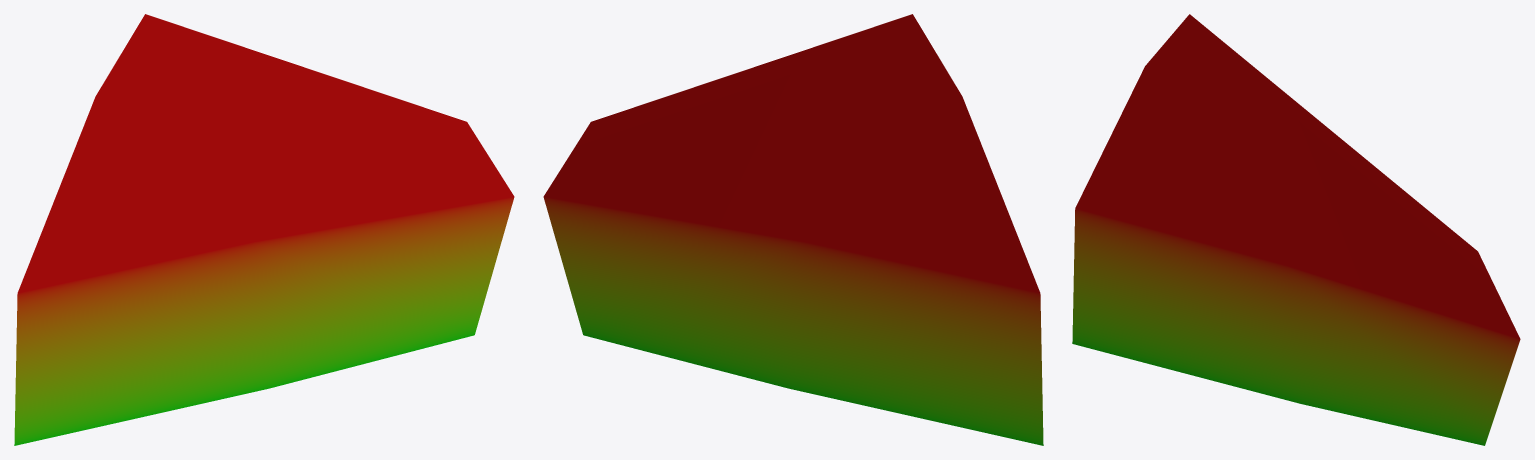
Rendered from Wild Grass_LOD4_Var11_vdilbaiia.fbx.
3 views of the same model, side by side, from view 1: azimuth 30°, elevation 25°; view 2: azimuth 150°, elevation 25°; view 3: azimuth 330°, elevation 25° (orthographic). The views are drawn at different scales.
Visible parts, largest first — view 1: _5g8f_Var11_LOD4; view 2: _5g8f_Var11_LOD4; view 3: _5g8f_Var11_LOD4.
Boxes of the visible parts, bbox=[...] form: _5g8f_Var11_LOD4: bbox=[14, 14, 514, 445]; _5g8f_Var11_LOD4: bbox=[543, 14, 1043, 445]; _5g8f_Var11_LOD4: bbox=[1072, 14, 1520, 445].
Bounding box in the file's own units: 89.78 × 69.46 × 8.28e-06.
